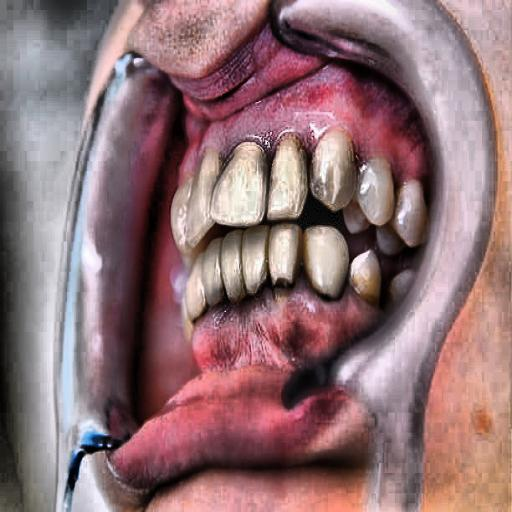Calculus: (252, 102, 406, 207), (204, 245, 419, 319)
